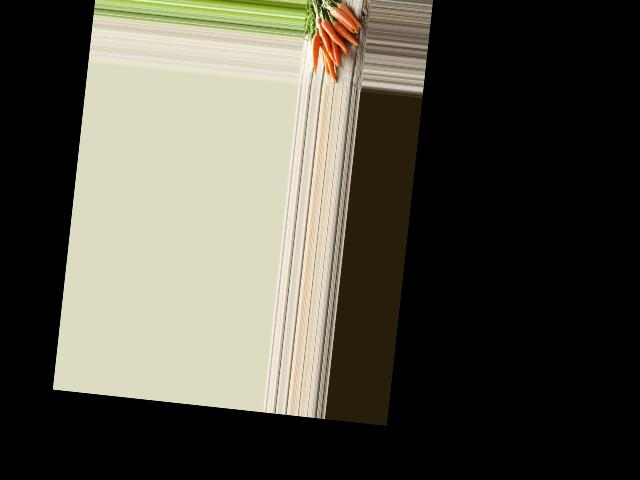carrot: (305, 34, 322, 72)
